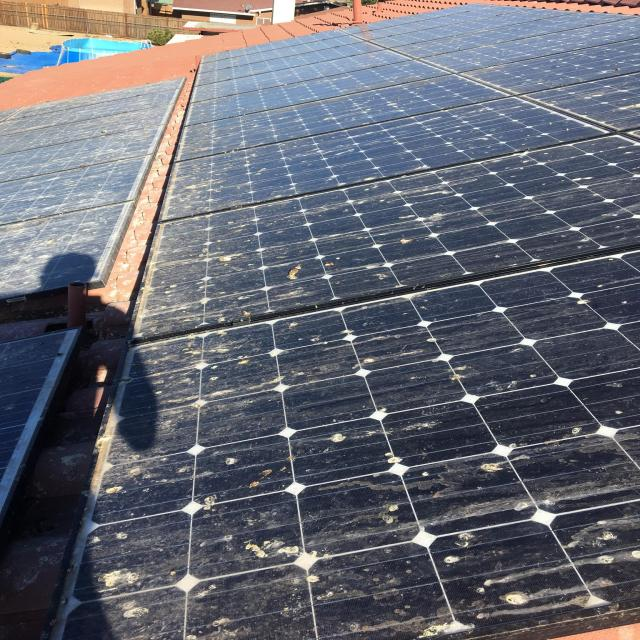dust-solar-panel: (55, 2, 640, 640), (0, 77, 180, 302), (0, 338, 82, 504)
